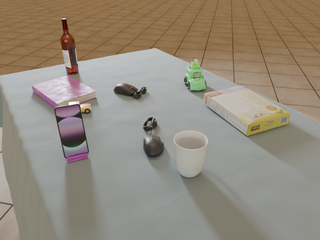book: (32, 76, 97, 108)
bottle: (61, 19, 79, 74)
box: (204, 86, 290, 136)
cup: (173, 131, 208, 177)
mouse: (114, 83, 147, 98), (144, 135, 164, 157)
phone: (54, 103, 89, 158)
toy_car: (184, 59, 206, 90), (68, 101, 91, 113)
